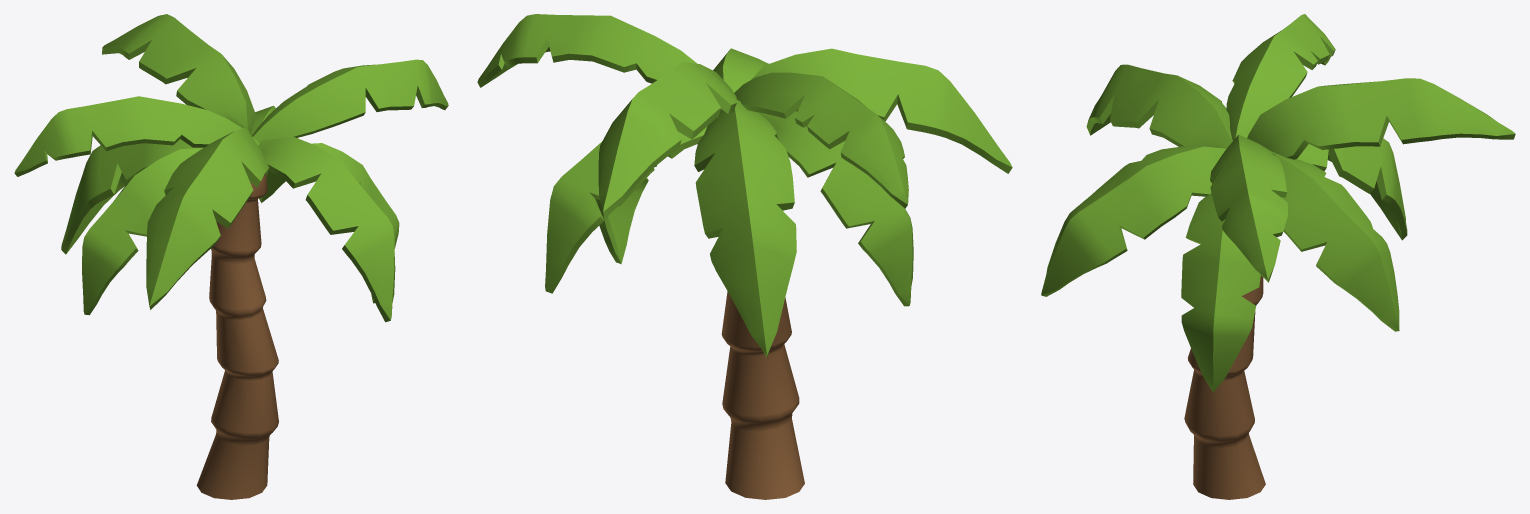
File: Palm A.glb
3 views of the same model, side by side, from view 1: azimuth 30°, elevation 25°; view 2: azimuth 150°, elevation 25°; view 3: azimuth 270°, elevation 25° (orthographic). The views are drawn at different scales.
Visible parts, largest first — view 1: Environment_PalmTree_3; view 2: Environment_PalmTree_3; view 3: Environment_PalmTree_3.
Part boxes in pixels (x1,y1,x2,y2): Environment_PalmTree_3: (14, 14, 448, 499); Environment_PalmTree_3: (477, 14, 1012, 499); Environment_PalmTree_3: (1041, 14, 1515, 499).
Bounding box in the file's own units: 2.86 × 2.69 × 2.75.
1 material, 1 textured.
